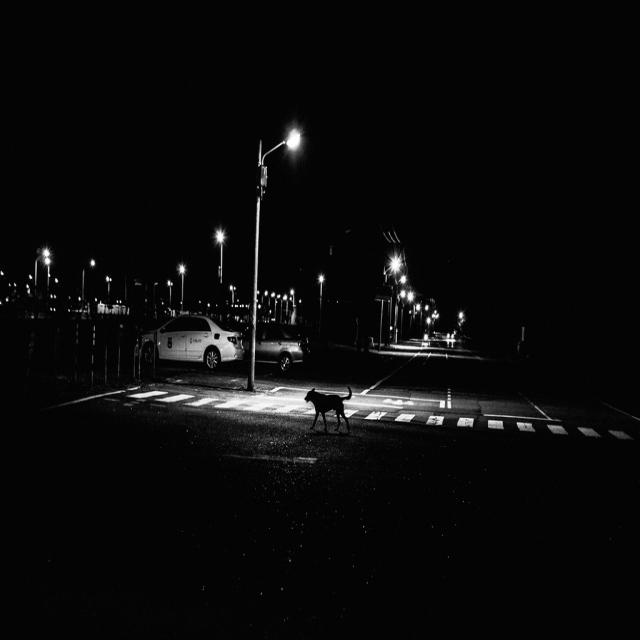Dog: (300, 382, 352, 437)
